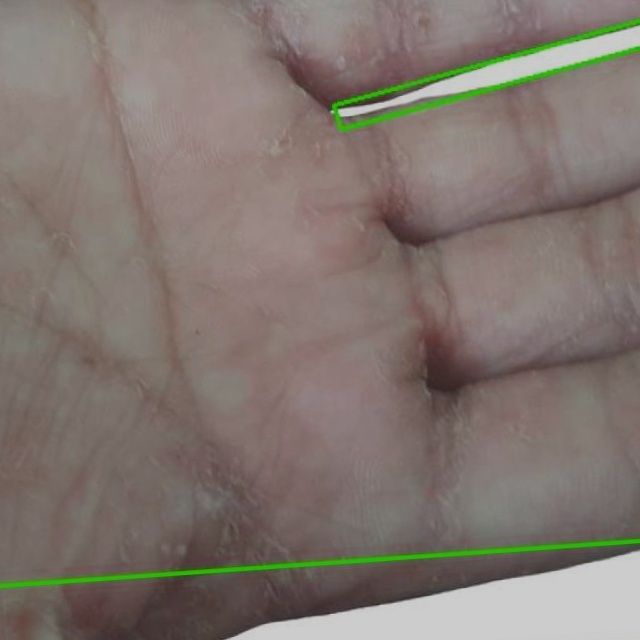Scabies: (0, 540, 639, 639), (334, 21, 639, 130)
